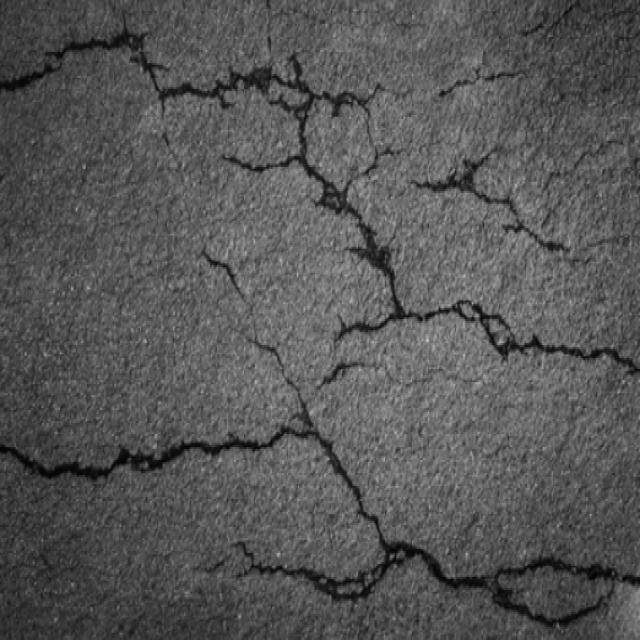branched cracks: (0, 20, 639, 375), (0, 320, 639, 627), (411, 151, 568, 252), (236, 542, 377, 600), (201, 250, 253, 318), (438, 67, 519, 96), (318, 362, 363, 388)
